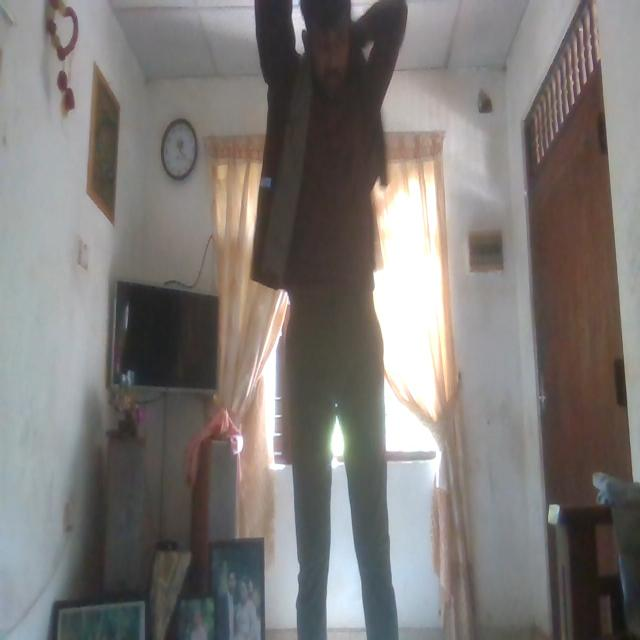Jacket_Wearer: (252, 8, 393, 280)
Person: (247, 0, 417, 640)
